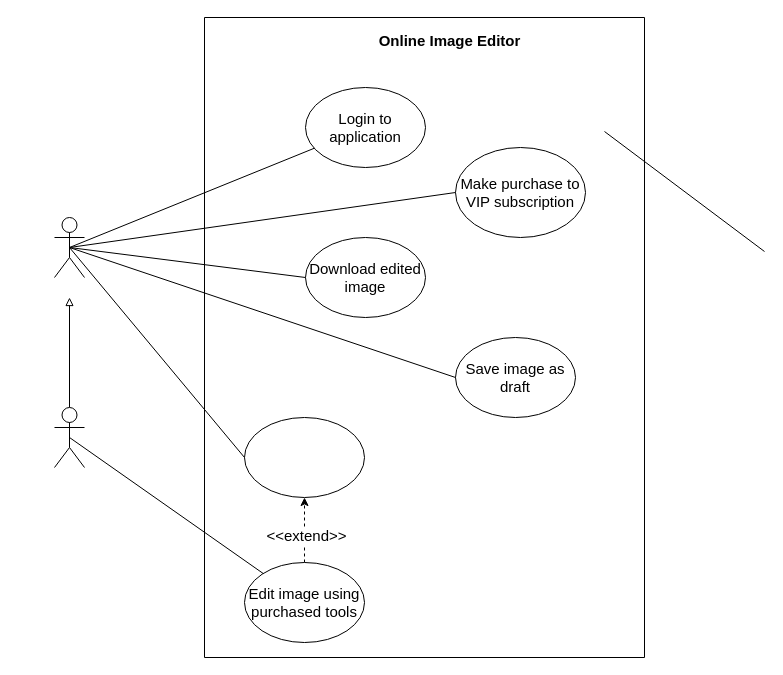
The diagram is 783 pixels wide and 675 high, and some of its shapes have lost their labels. The box of each missing label's shape, as (x1, y1, x2, y2) in pixels:
Edit image using free tools: (244, 416, 364, 498)
Purchased user: (54, 406, 84, 468)
User: (54, 216, 84, 278)
